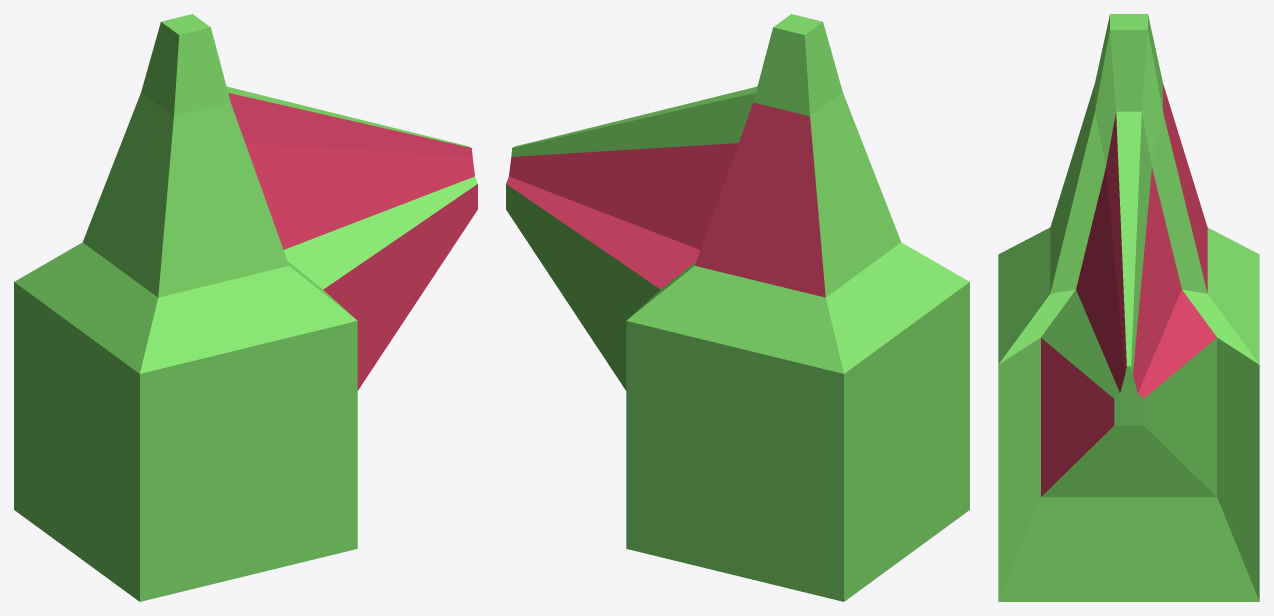
3 renders of one model, left to right at view 1: azimuth 30°, elevation 25°; view 2: azimuth 150°, elevation 25°; view 3: azimuth 270°, elevation 25°, orthographic. The views are drawn at different scales.
Parts seen in each view (by area): view 1: Cube.001; view 2: Cube.001; view 3: Cube.001.
Boxes of the visible parts, box(x1,y1,x2,y2) form: Cube.001: box(14, 14, 477, 601); Cube.001: box(506, 14, 969, 601); Cube.001: box(998, 14, 1259, 601).
Bounding box in the file's own units: 3.62 × 4.43 × 2.
